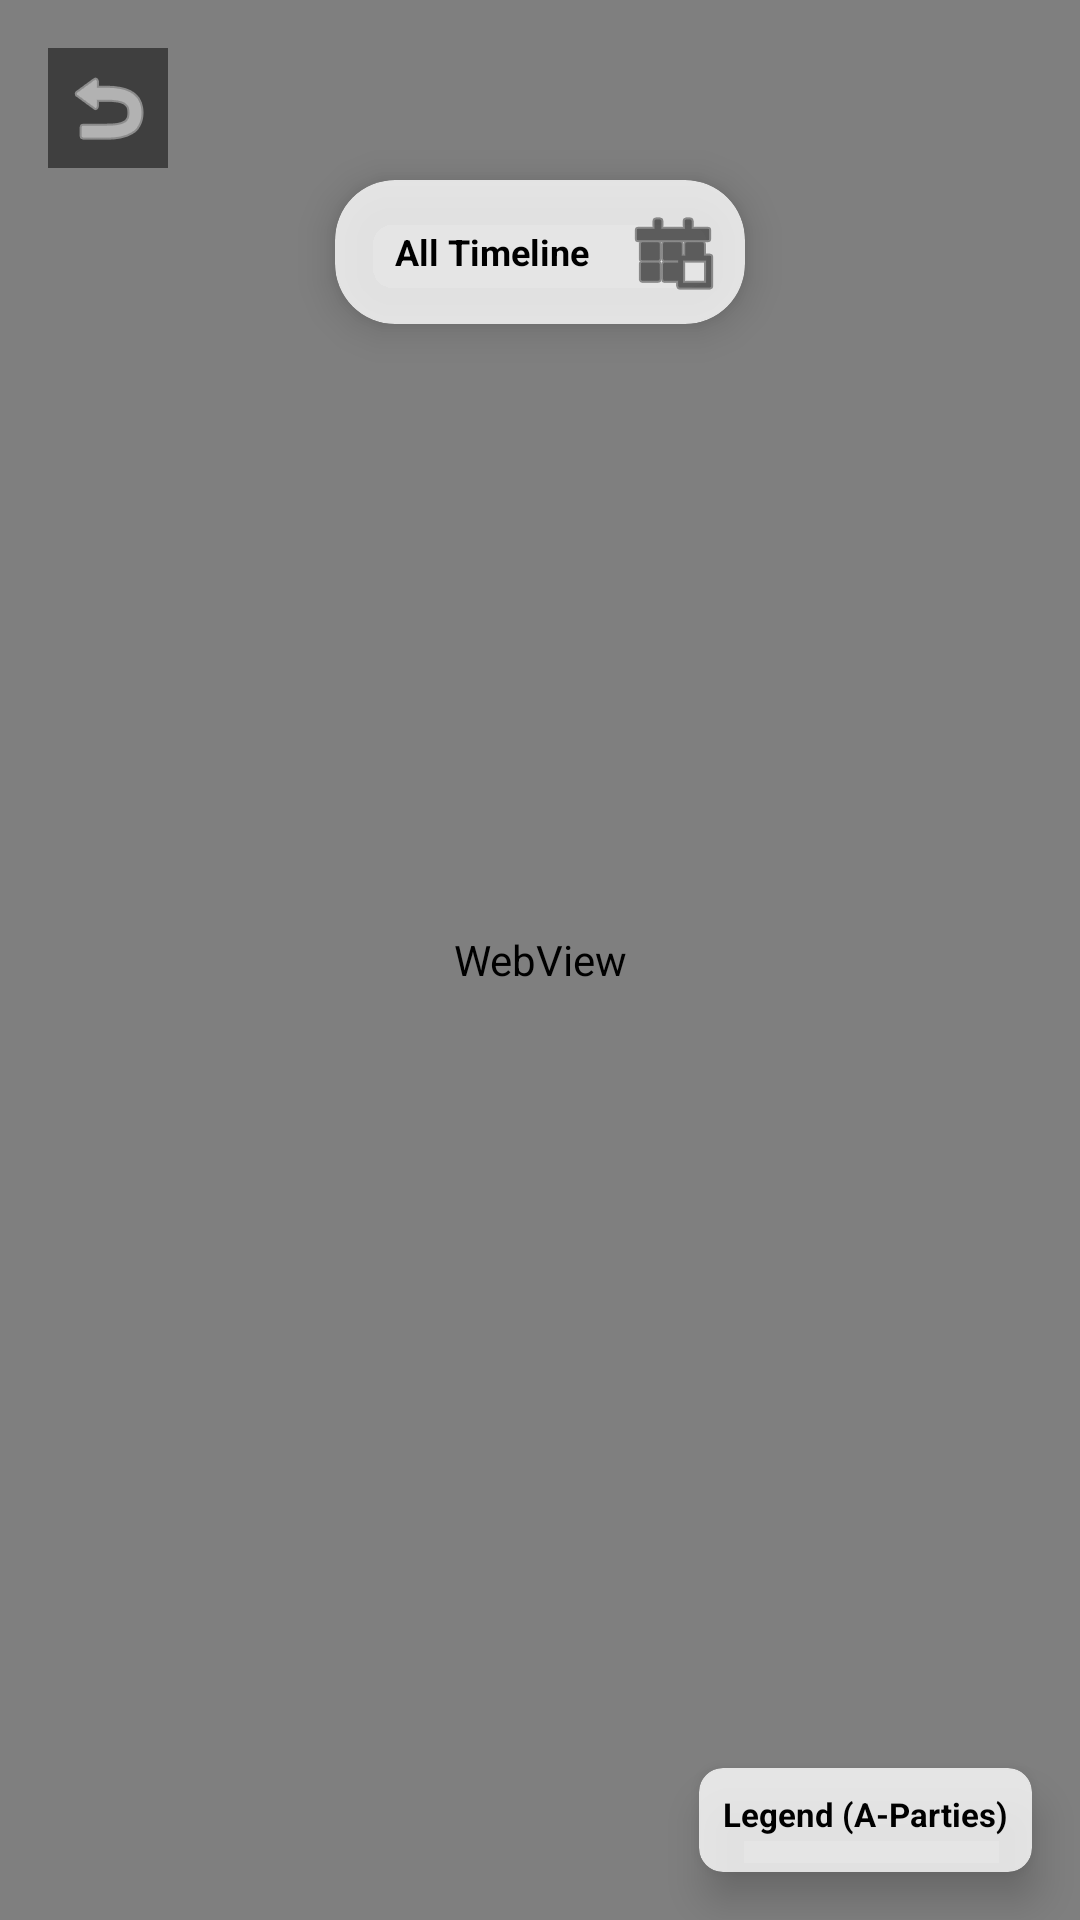

Named icons in this screenshot (1080*1920) and their bounding boxes, bbox=[x1, y1, x2, y2]:
Back: bbox=[48, 48, 168, 168]
today: bbox=[635, 217, 713, 290]
